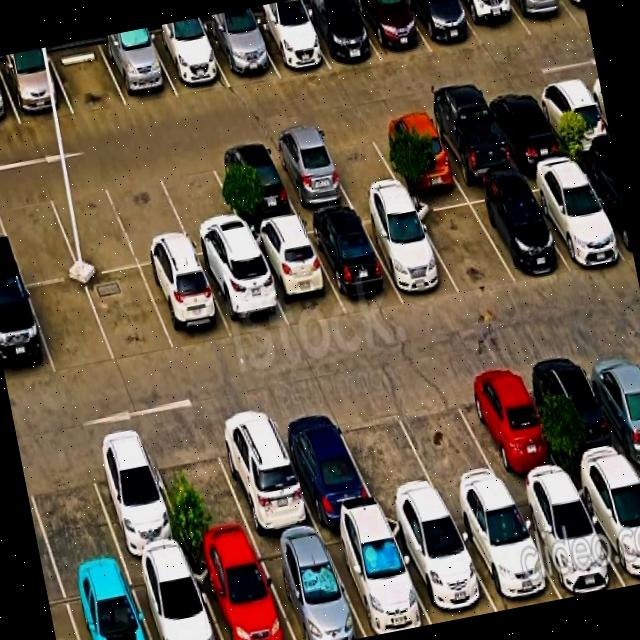empty: (389, 374, 508, 505), (145, 425, 255, 554), (330, 389, 444, 513), (21, 444, 123, 579), (411, 192, 515, 294), (155, 153, 249, 256), (46, 176, 139, 276), (104, 166, 194, 266), (84, 267, 175, 363), (27, 278, 115, 375), (0, 185, 80, 285), (315, 123, 404, 203), (48, 41, 127, 114)
occupied: (453, 362, 567, 491), (208, 407, 318, 540), (269, 401, 379, 527), (82, 434, 188, 564), (525, 349, 632, 477), (510, 481, 625, 599), (448, 493, 561, 611), (320, 518, 431, 637), (385, 508, 497, 624), (254, 532, 366, 640), (520, 163, 627, 269), (464, 180, 568, 282), (248, 221, 346, 329), (303, 210, 402, 314), (357, 201, 459, 301), (189, 544, 294, 640), (141, 257, 233, 352), (197, 247, 289, 339), (572, 465, 640, 586), (127, 555, 222, 640), (423, 100, 517, 184), (209, 143, 299, 229), (578, 340, 640, 464), (265, 133, 353, 215), (370, 111, 460, 189), (482, 87, 568, 167), (61, 567, 151, 640), (575, 156, 635, 262), (532, 77, 612, 155), (148, 26, 230, 97), (99, 33, 178, 106), (0, 283, 55, 386), (299, 0, 381, 69), (249, 9, 330, 77), (0, 51, 73, 124), (203, 18, 279, 87), (352, 0, 431, 62), (405, 0, 482, 53), (455, 0, 531, 47), (509, 0, 580, 35), (563, 0, 588, 25)
